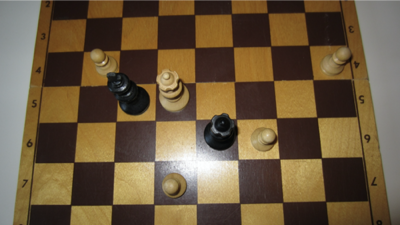black-king: (107, 73, 151, 116)
black-queen: (204, 113, 237, 152)
white-pawn: (321, 46, 353, 77), (90, 49, 119, 78), (163, 173, 188, 199), (251, 128, 278, 152)
white-queen: (156, 68, 191, 113)
